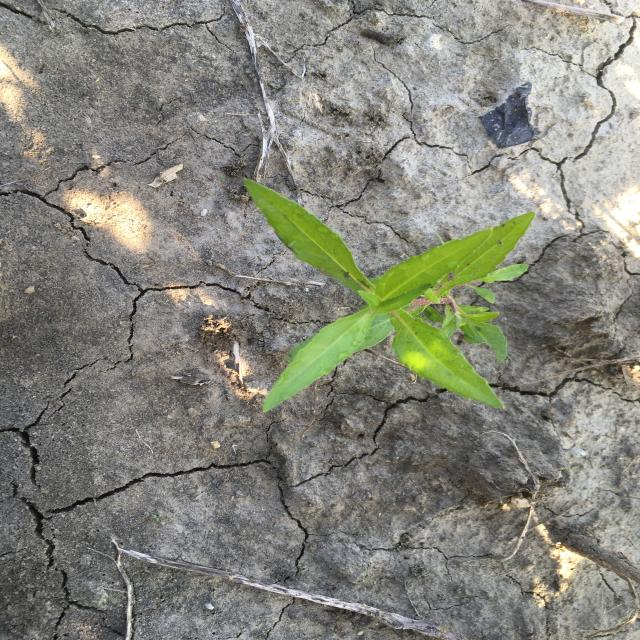Eclipta: (239, 175, 540, 414)
